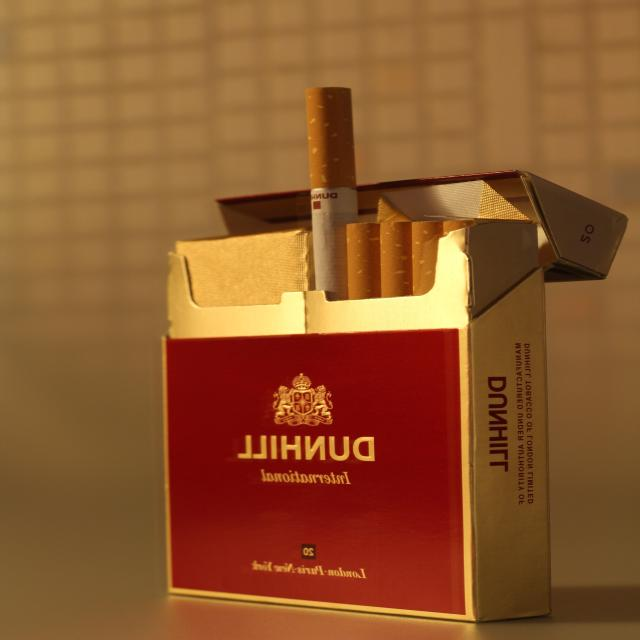dunhill: (151, 172, 629, 624)
